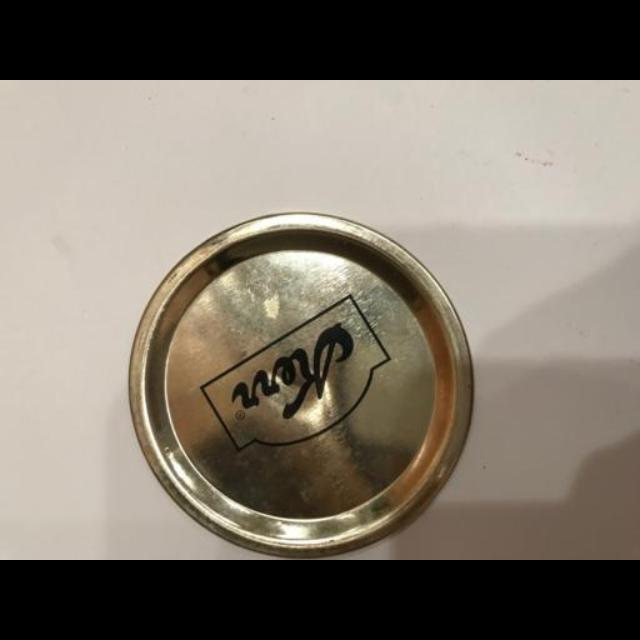lata: (125, 208, 475, 560)
